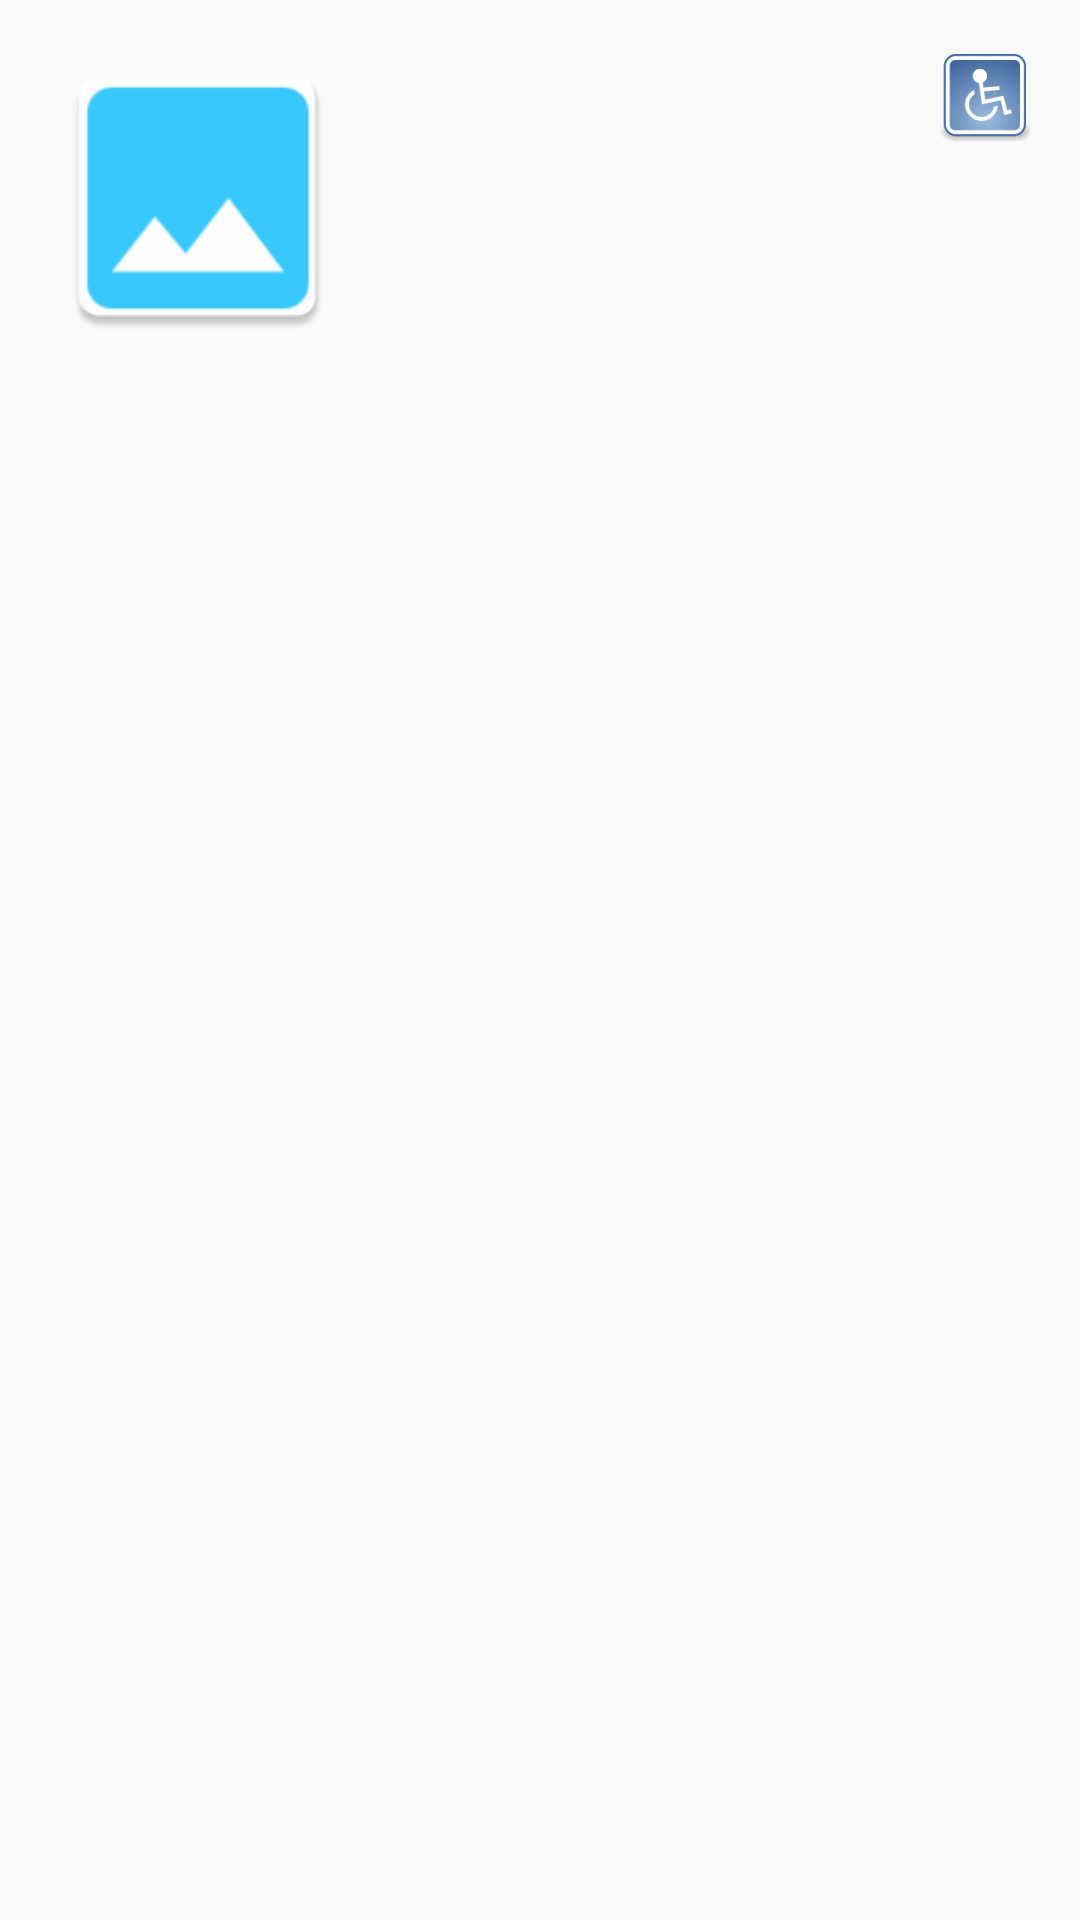

Icon bounding boxes for this 1080w x 1920h phone screenshot, format (x1, y1, x2, y2):
accessible: (943, 54, 1028, 140)
